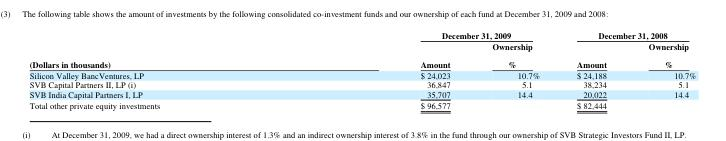table: (28, 29, 695, 110)
table column: (28, 29, 289, 110), (289, 29, 470, 110), (470, 29, 557, 110), (557, 29, 626, 110), (626, 29, 695, 110)
table column header: (28, 29, 695, 69)
table row: (28, 40, 695, 69), (28, 29, 695, 40), (28, 88, 695, 99), (28, 99, 695, 110), (28, 69, 695, 79), (28, 79, 695, 88)
table spanning cell: (28, 29, 289, 69), (289, 29, 557, 40), (557, 29, 695, 40)
